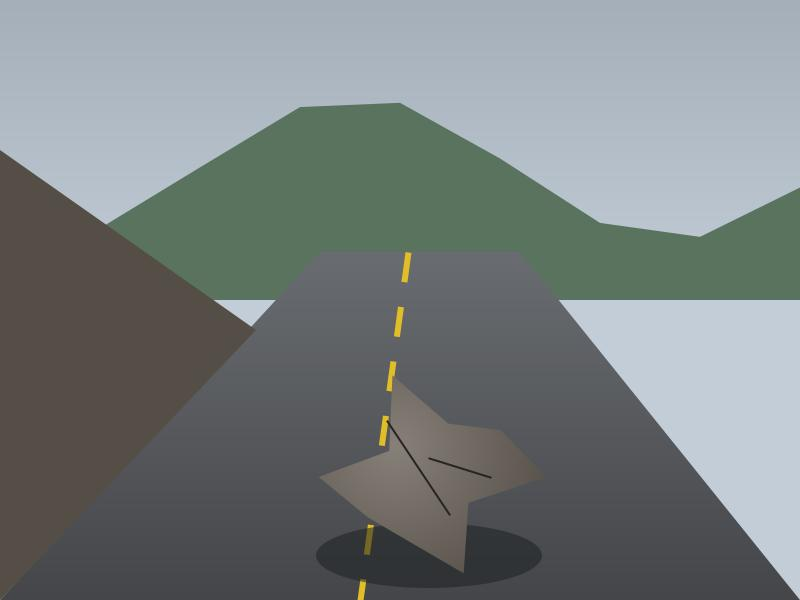ROAD_OBSTACLE: (326, 384, 532, 570)
